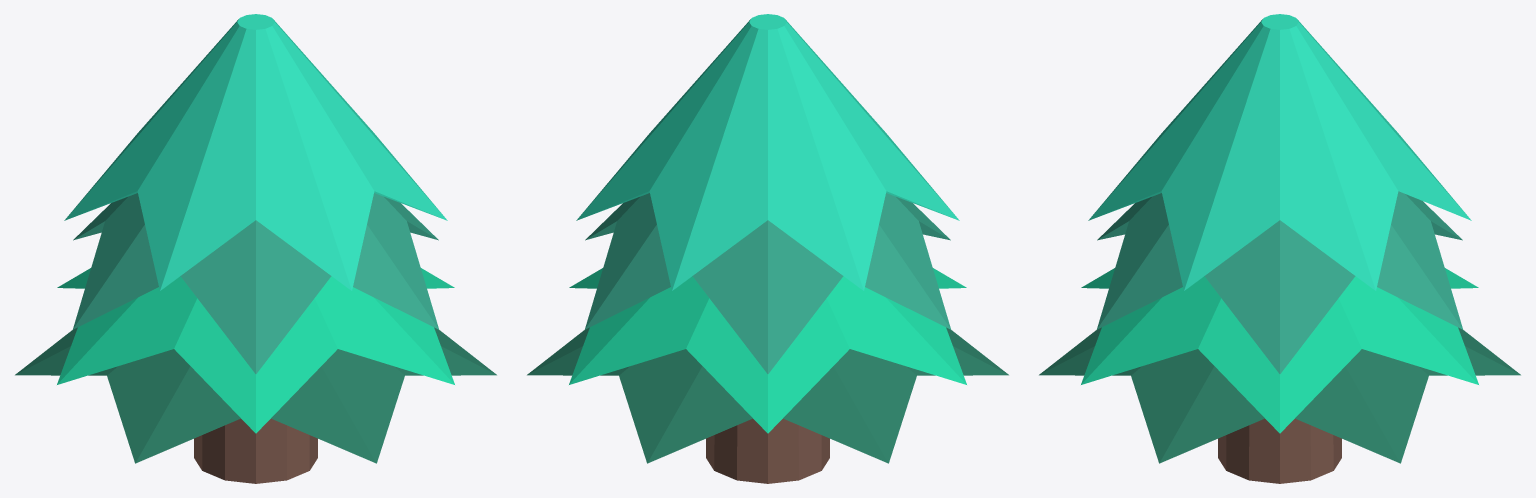
The model's file is tree.glb.
3 renders of one model, left to right at view 1: azimuth 30°, elevation 25°; view 2: azimuth 150°, elevation 25°; view 3: azimuth 270°, elevation 25°, orthographic.
Visible parts, largest first — view 1: Tree; view 2: Tree; view 3: Tree.
Boxes of the visible parts, bbox=[...] form: Tree: bbox=[15, 14, 496, 483]; Tree: bbox=[527, 14, 1008, 483]; Tree: bbox=[1039, 14, 1520, 483].
Bounding box in the file's own units: 20.26 × 21.16 × 21.27.
